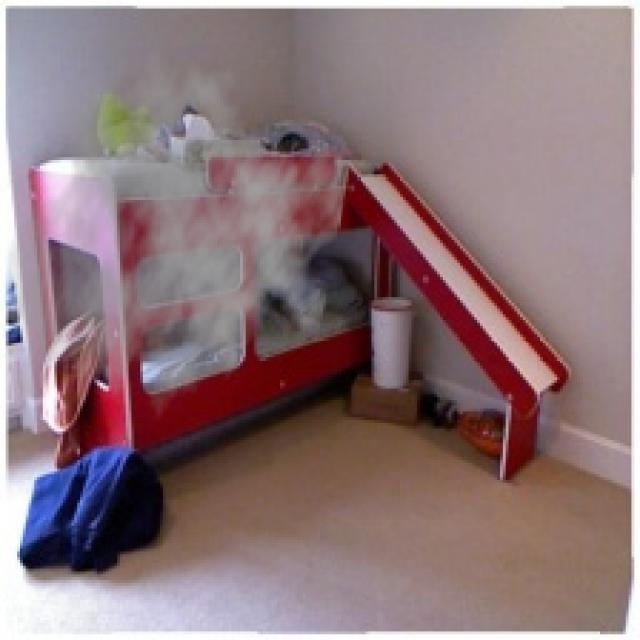Smoke: (2, 46, 354, 437)
